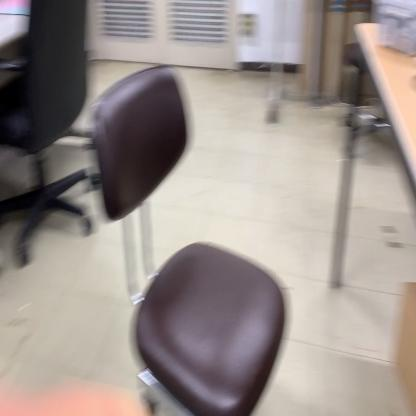chair: (86, 63, 287, 415), (0, 0, 99, 270)
